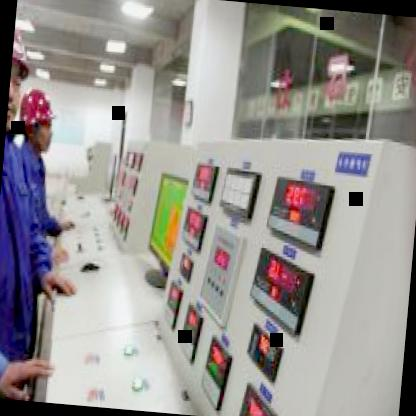helmet: (6, 7, 36, 138), (13, 82, 61, 160)
